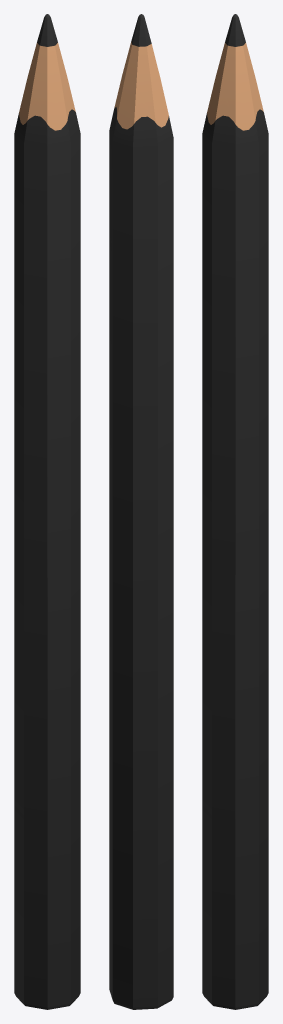
The model's file is pencil_7.glb.
3 renders of one model, left to right at view 1: azimuth 90°, elevation 25°; view 2: azimuth 210°, elevation 25°; view 3: azimuth 270°, elevation 25°, orthographic.
Visible parts, largest first — view 1: Cylinder.036; view 2: Cylinder.036; view 3: Cylinder.036.
Boxes of the visible parts, x1=… form: Cylinder.036: x1=14, y1=14, x2=80, y2=1009; Cylinder.036: x1=109, y1=14, x2=173, y2=1009; Cylinder.036: x1=202, y1=14, x2=268, y2=1009.
Size of the model in its own units: 0.00842 by 0.1376 by 0.00842.
Materials: 1 (1 with a texture image).
